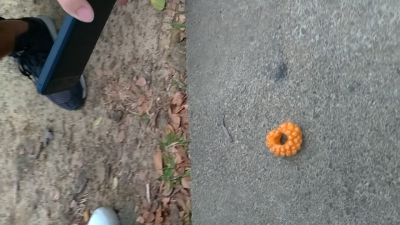eggs: (264, 121, 304, 158)
